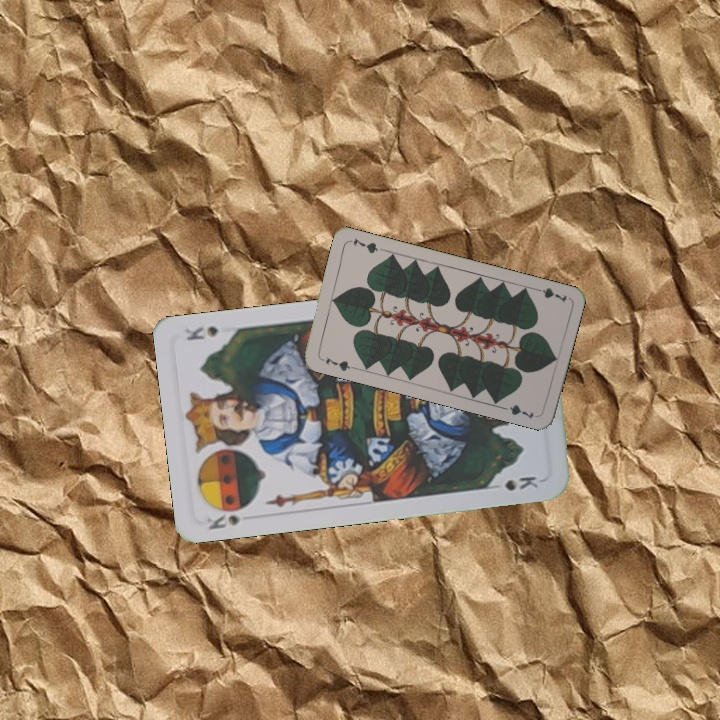G7: (530, 283, 569, 305), (316, 353, 356, 374)
SK: (203, 501, 253, 533)
